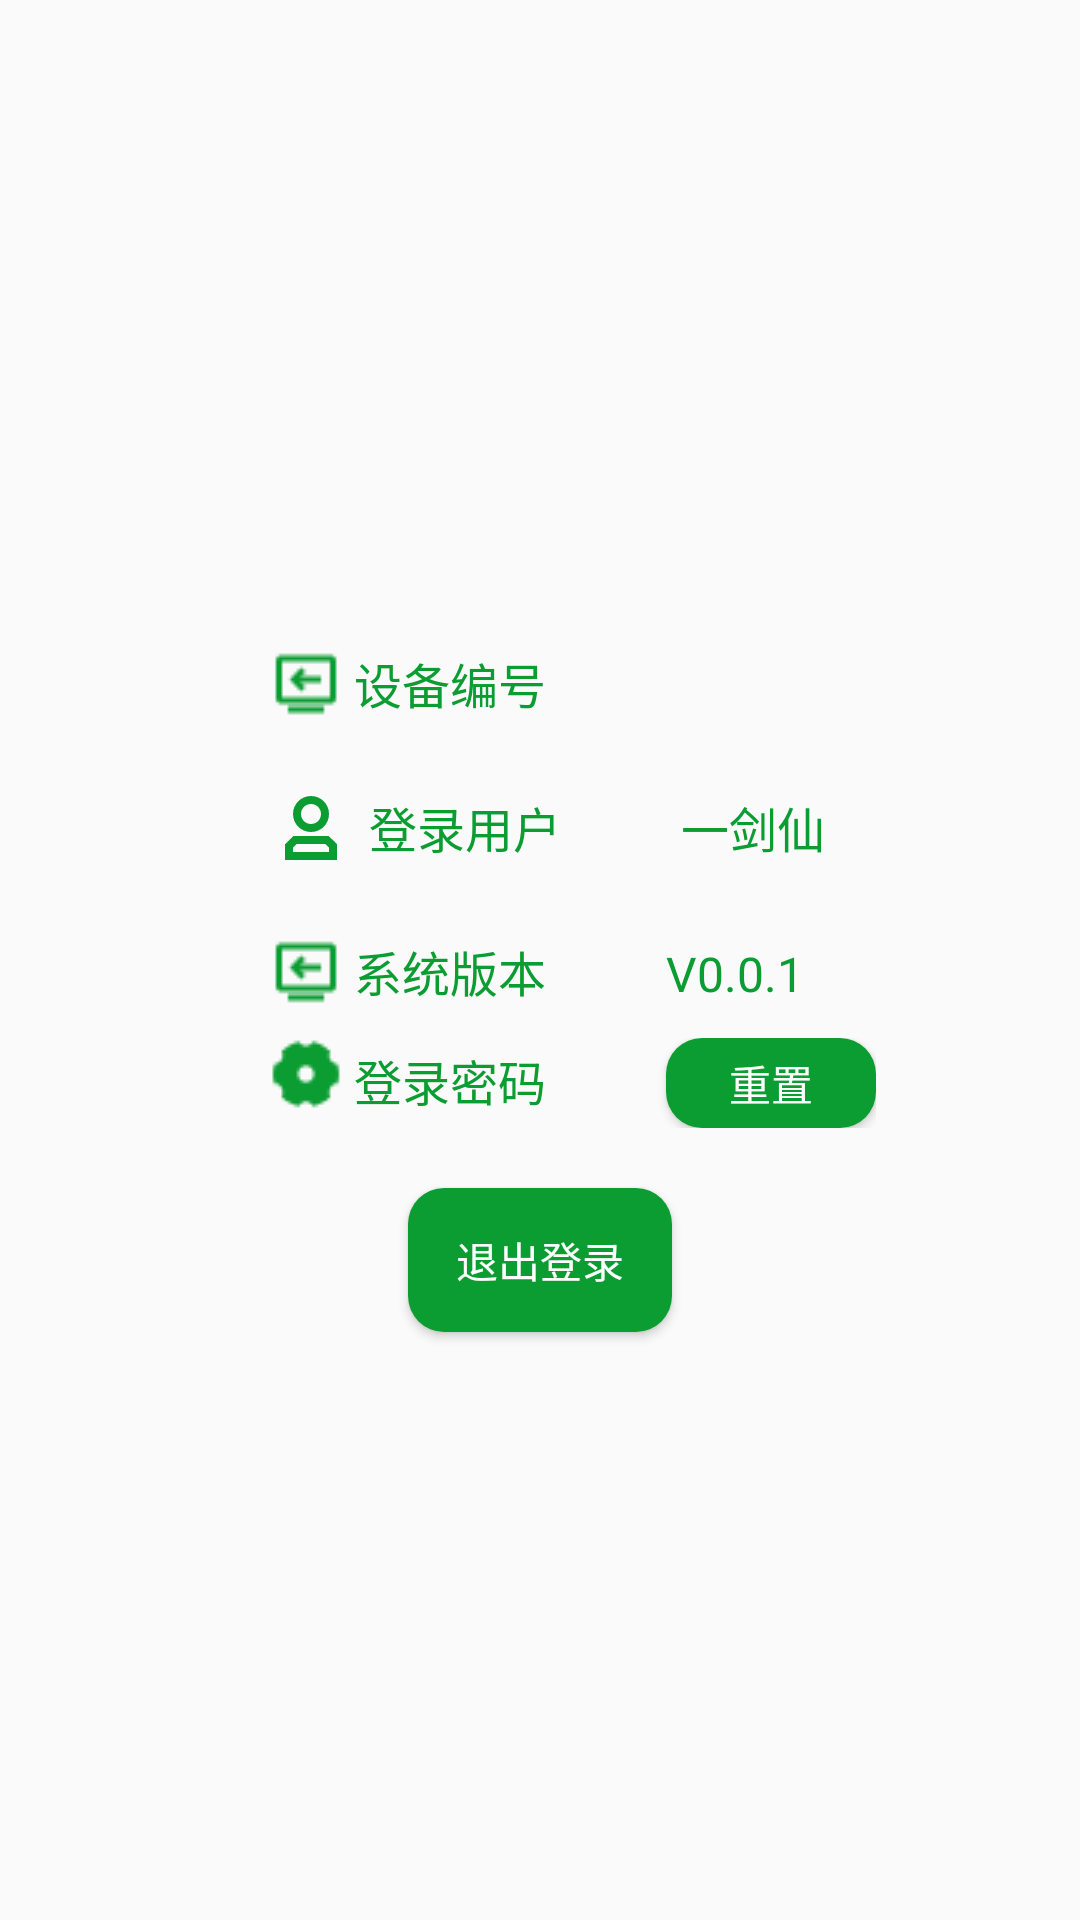

Named icons in this screenshot (1080 x 1920) and their centers, point (x, y):
person: point (311, 828)
